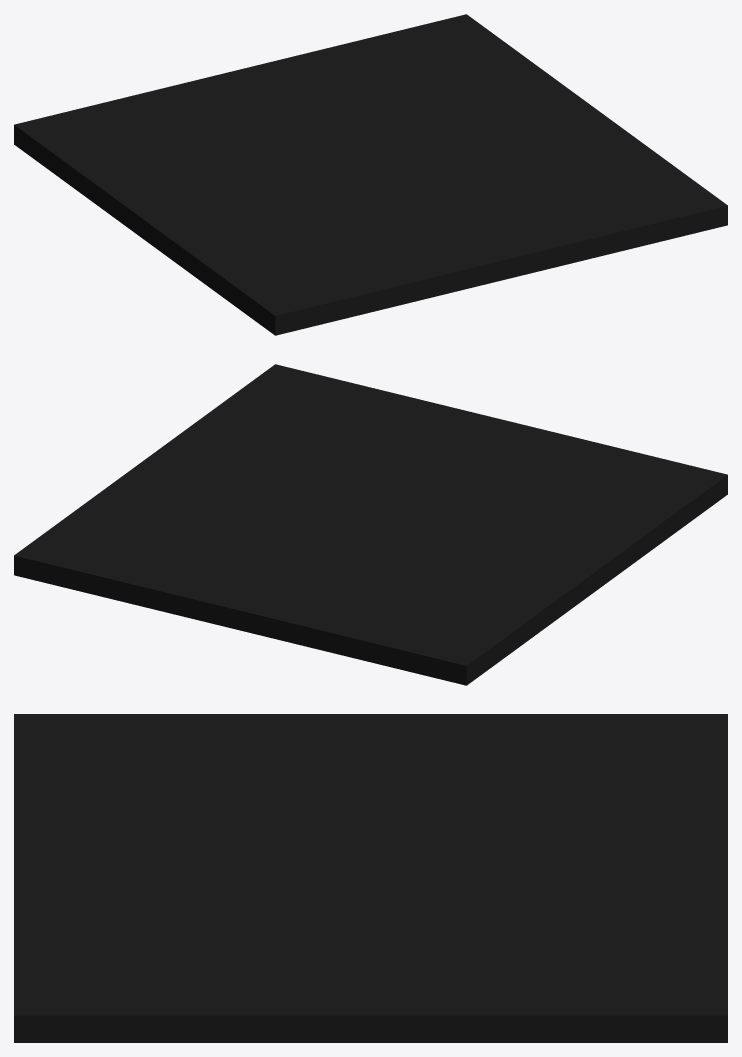
File: Minimal_Black.glb
The picture shows the model from 3 angles, top to bottom: view 1: azimuth 30°, elevation 25°; view 2: azimuth 150°, elevation 25°; view 3: azimuth 270°, elevation 25°; orthographic projection. The views are drawn at different scales.
Parts seen in each view (by area): view 1: PF_SimpleBlack; view 2: PF_SimpleBlack; view 3: PF_SimpleBlack.
Part boxes in pixels (x1,y1,x2,y2): PF_SimpleBlack: (14,14,727,335); PF_SimpleBlack: (14,364,727,685); PF_SimpleBlack: (14,714,727,1042).
Size of the model in its own units: 1.3 by 0.0546 by 1.3.
Materials: 3 (1 with a texture image).
